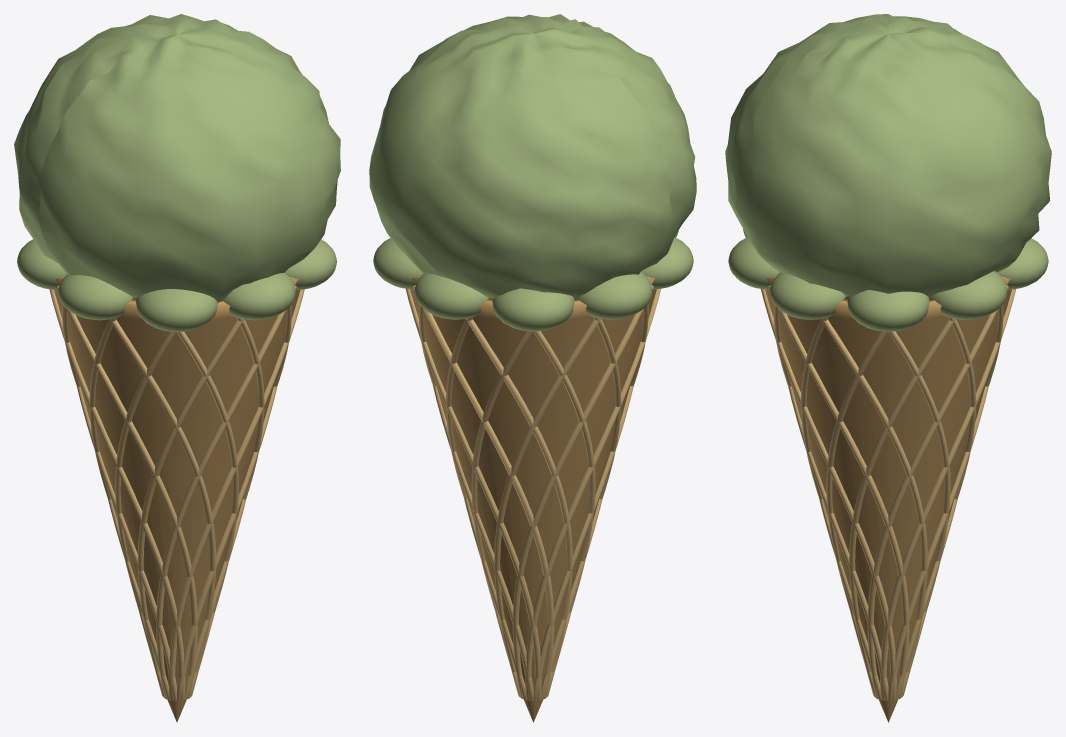
Rendered from props_p7__p7_ice_cream_pistachio.glb.
The picture shows the model from 3 angles, left to right: view 1: azimuth 30°, elevation 25°; view 2: azimuth 150°, elevation 25°; view 3: azimuth 270°, elevation 25°; orthographic projection.
Parts seen in each view (by area): view 1: ice_cream_scoop, reference_static_surfaces (×2), wafer_cone; view 2: ice_cream_scoop, reference_static_surfaces (×2), wafer_cone; view 3: ice_cream_scoop, reference_static_surfaces (×2), wafer_cone.
Part boxes in pixels (x1=…): ice_cream_scoop: x1=14, y1=14, x2=340, y2=302; reference_static_surfaces (×2): x1=17, y1=239, x2=336, y2=701; wafer_cone: x1=54, y1=277, x2=300, y2=722; ice_cream_scoop: x1=369, y1=14, x2=696, y2=299; reference_static_surfaces (×2): x1=373, y1=230, x2=693, y2=700; wafer_cone: x1=410, y1=276, x2=656, y2=722; ice_cream_scoop: x1=725, y1=14, x2=1051, y2=297; reference_static_surfaces (×2): x1=728, y1=229, x2=1048, y2=700; wafer_cone: x1=765, y1=276, x2=1011, y2=722.
Bounding box in the file's own units: 0.0753 × 0.1742 × 0.0745.
